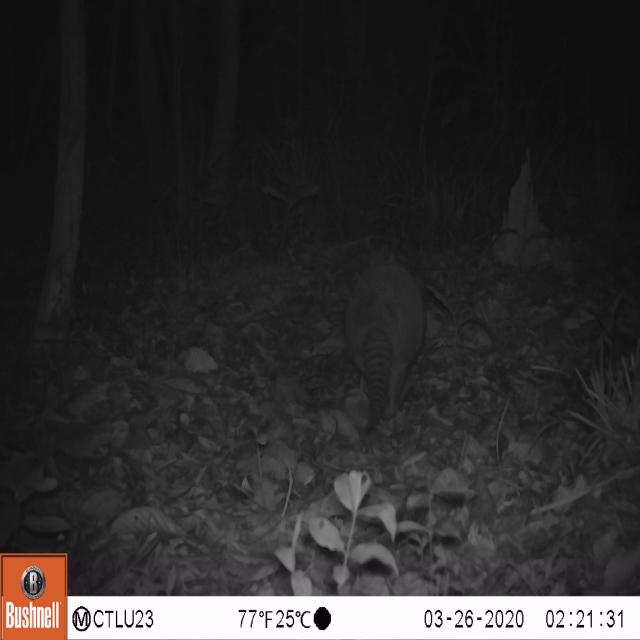Armadillo: (332, 241, 438, 437)
